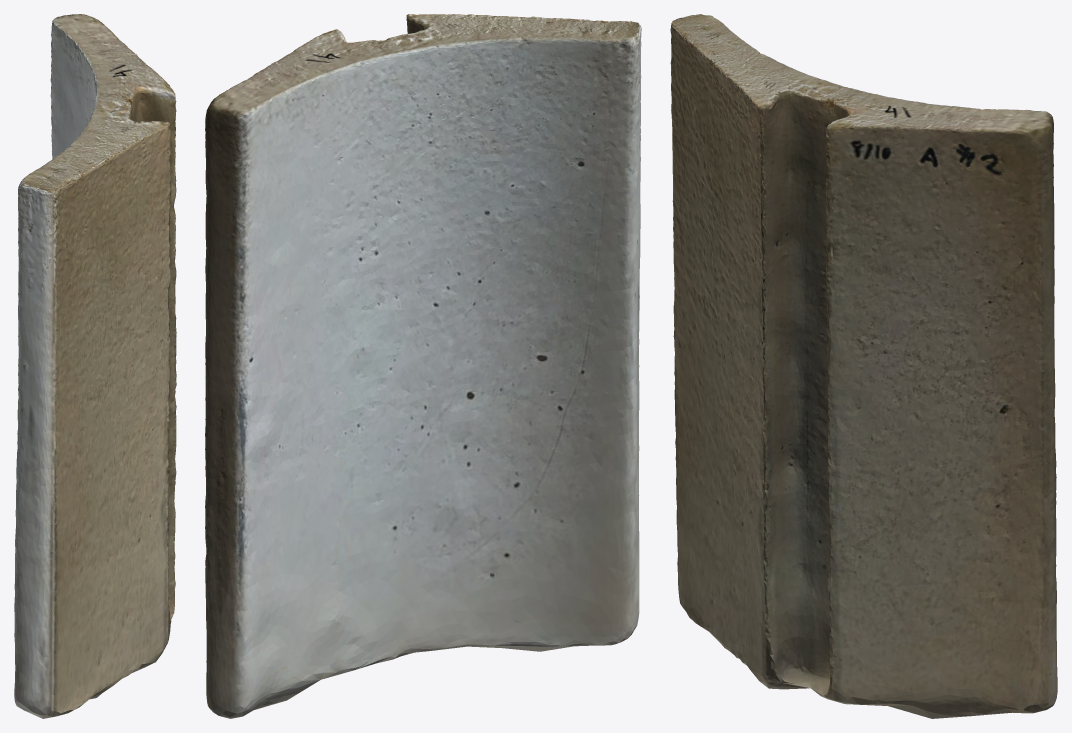
File: Pixel 41 .glb
The picture shows the model from 3 angles, left to right: view 1: azimuth 30°, elevation 25°; view 2: azimuth 150°, elevation 25°; view 3: azimuth 270°, elevation 25°; orthographic projection. The views are drawn at different scales.
Size of the model in its own units: 0.1133 by 0.2611 by 0.1526.
1 material, 1 textured.
